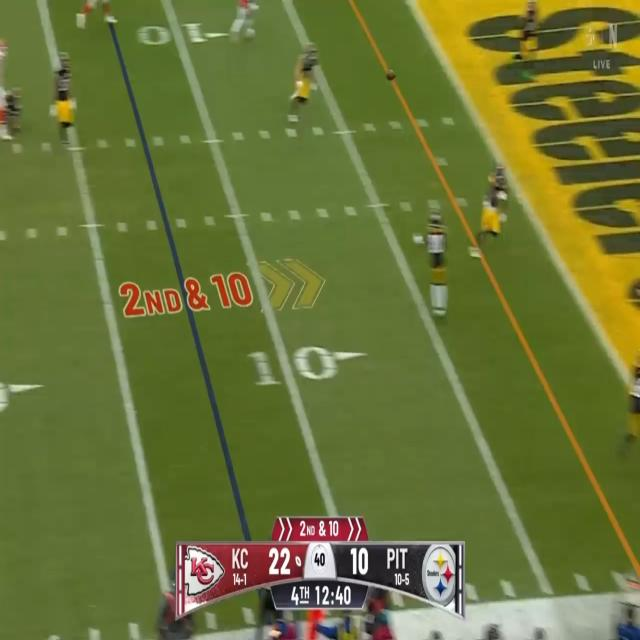Ball: (386, 68, 396, 82)
